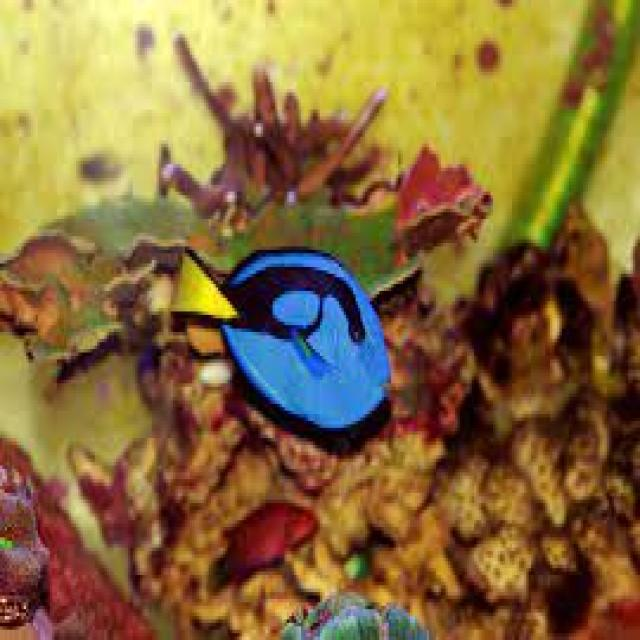BlueTang: (172, 254, 398, 433)
